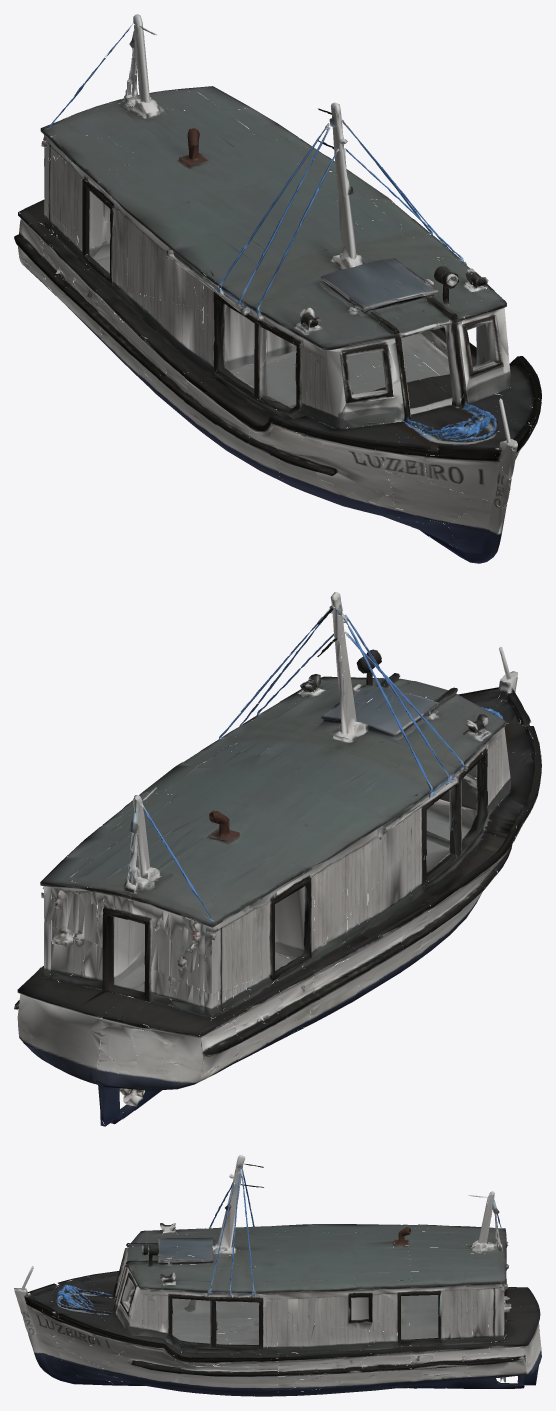
File: luzeiro_b.glb
3 views of the same model, one above another, from view 1: azimuth 30°, elevation 25°; view 2: azimuth 150°, elevation 25°; view 3: azimuth 270°, elevation 25° (orthographic). The views are drawn at different scales.
Parts seen in each view (by area): view 1: tripo_node_a9f6e284-f70d-4e98-a607-a2170e1208ba; view 2: tripo_node_a9f6e284-f70d-4e98-a607-a2170e1208ba; view 3: tripo_node_a9f6e284-f70d-4e98-a607-a2170e1208ba.
Part boxes in pixels (x1,y1,x2,y2): tripo_node_a9f6e284-f70d-4e98-a607-a2170e1208ba: (14,14,541,563); tripo_node_a9f6e284-f70d-4e98-a607-a2170e1208ba: (14,592,541,1126); tripo_node_a9f6e284-f70d-4e98-a607-a2170e1208ba: (14,1155,541,1396).
Bounding box in the file's own units: 5.27 × 7.3 × 15.
Materials: 1 (1 with a texture image).
